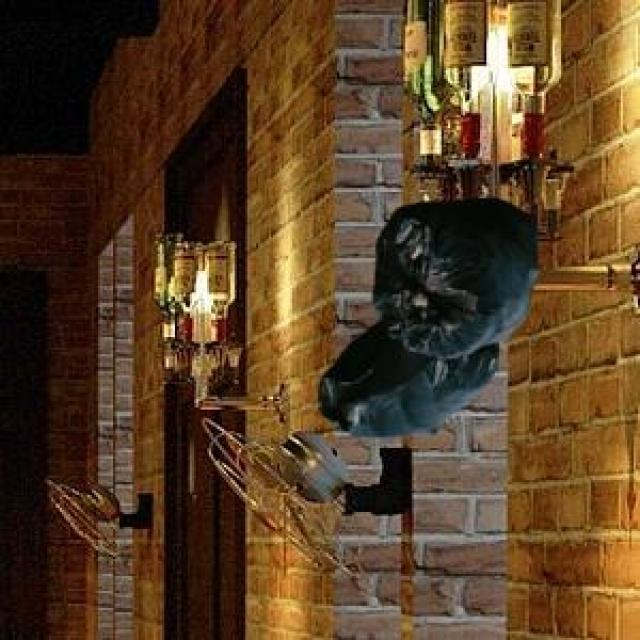waste: (319, 202, 538, 434)
